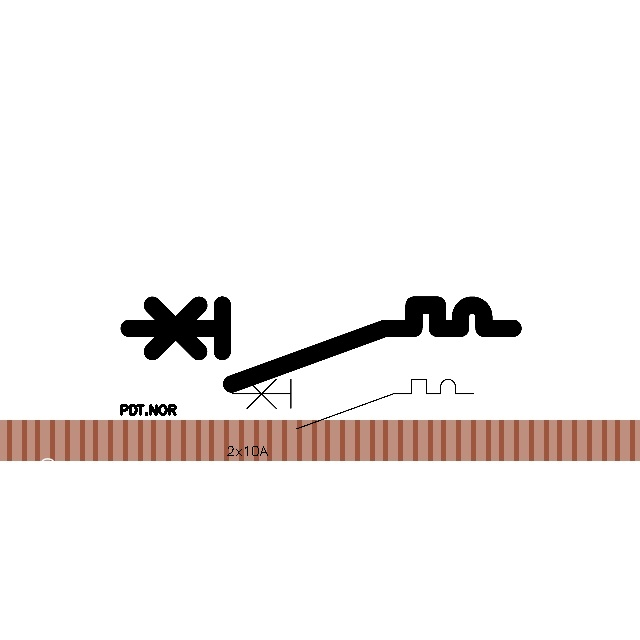interruptor_termomagnetico: (119, 295, 523, 394), (226, 373, 480, 435)
